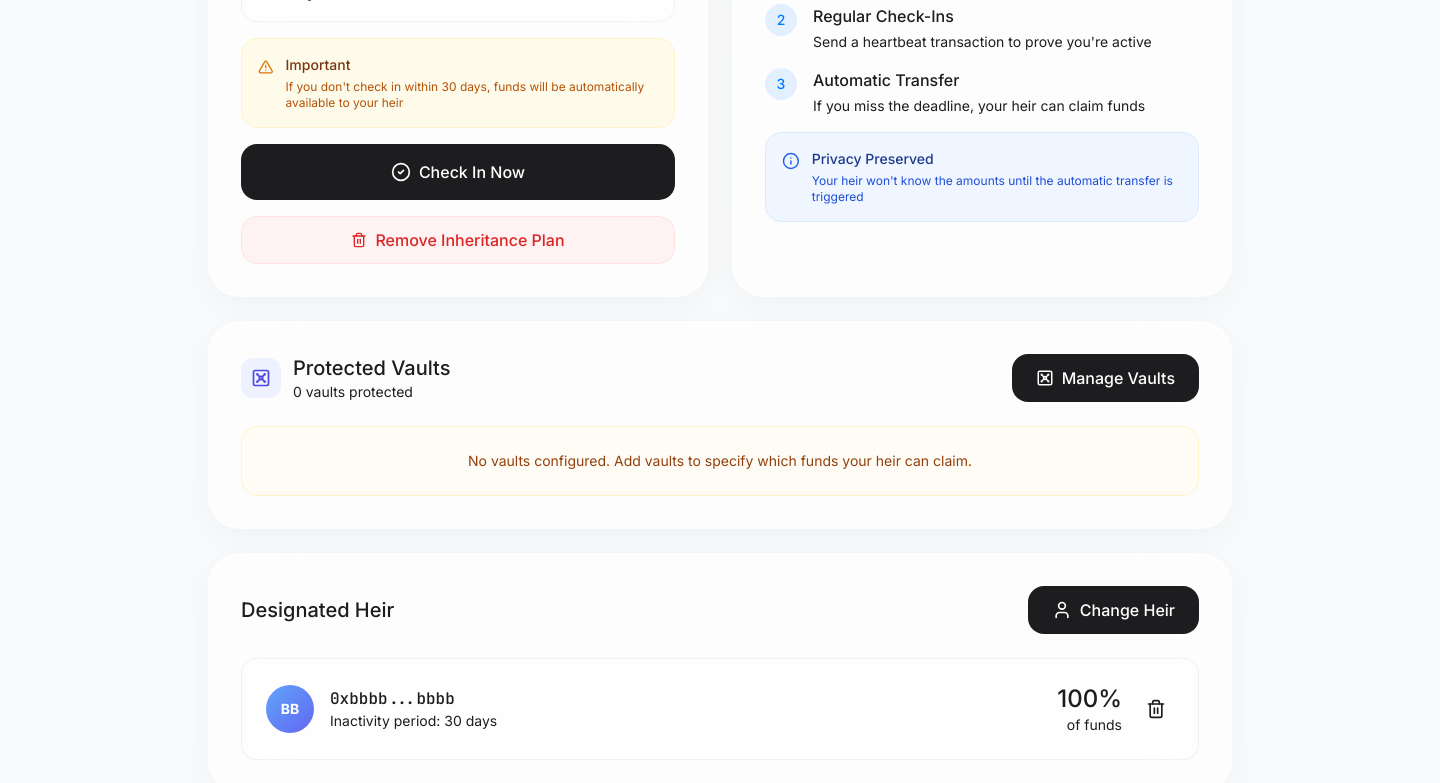
Test case: InheritancePlanning — Vault selector modal (§15.x) › valid custom vault address -> added to selected set
(page scrolled)
Click the button "Manage Vaults" at (1105, 378), box [1012,354,1199,402]
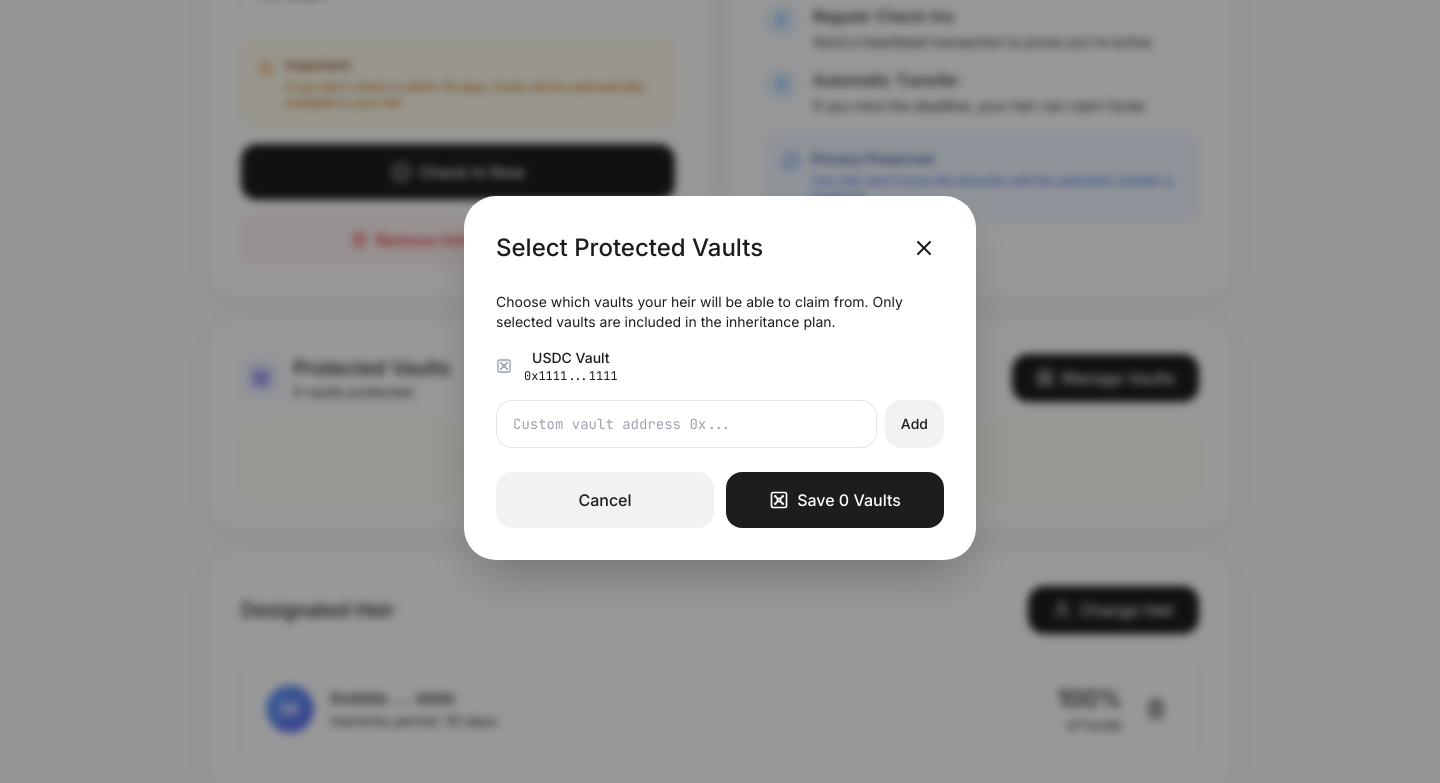
Type "0x4444444444444444444444444444444444444444" into the field with placeholder "Custom vault address 0x..." at (686, 424), box [496,400,877,448]
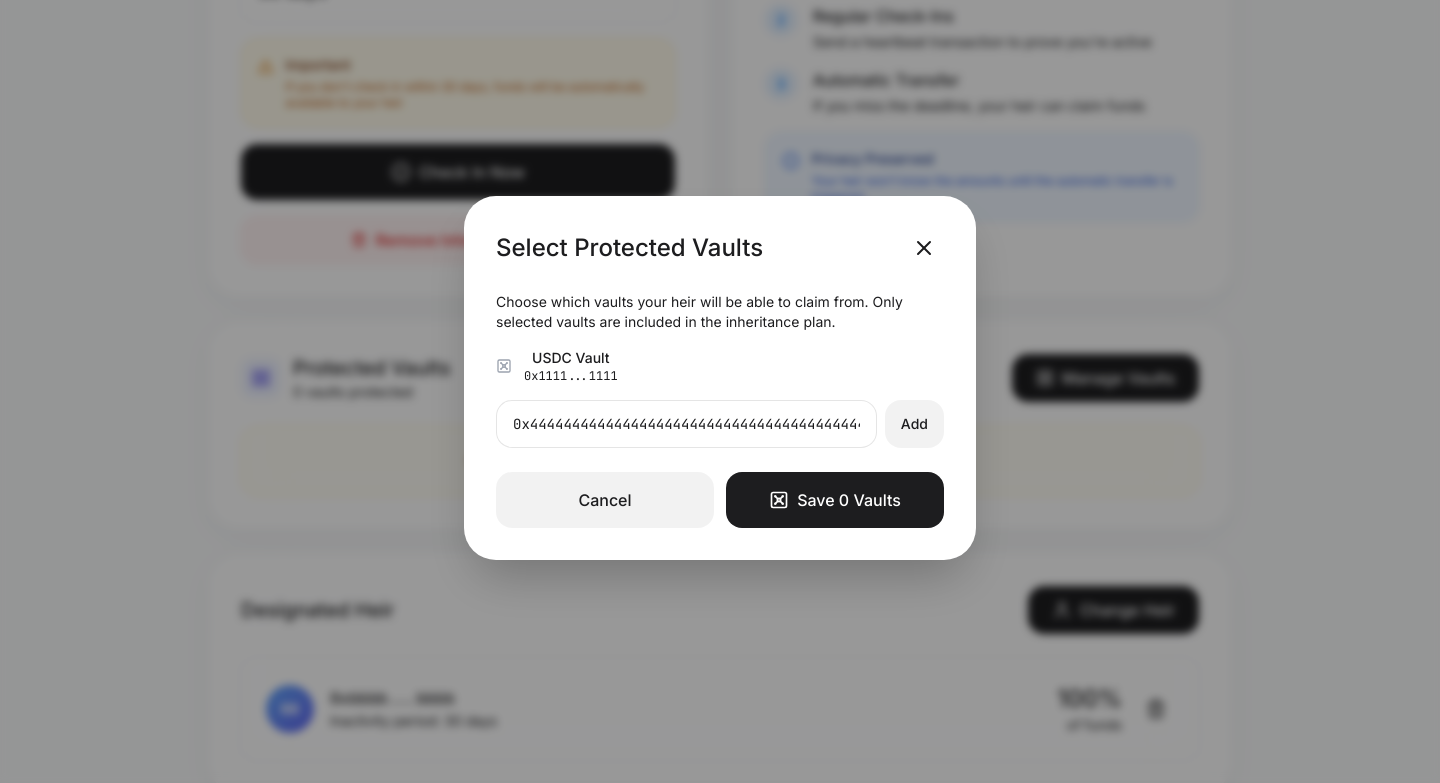
Click the button "Add" at (914, 424), box [885,400,944,448]
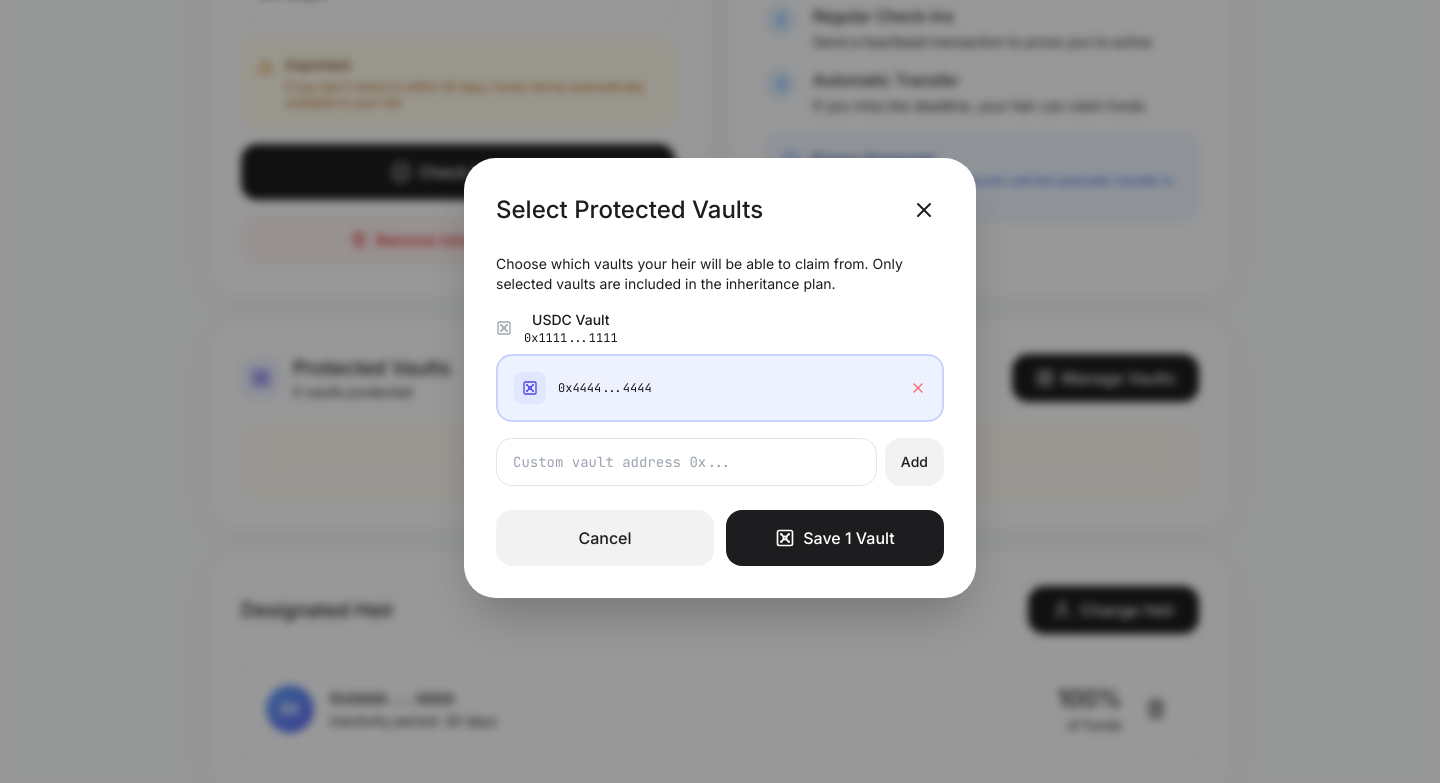
Check: the text "Save 1 Vault" is shown, box [726,510,944,566]
Check: the text "0x4444...4444" is shown, box [558,380,652,396]
